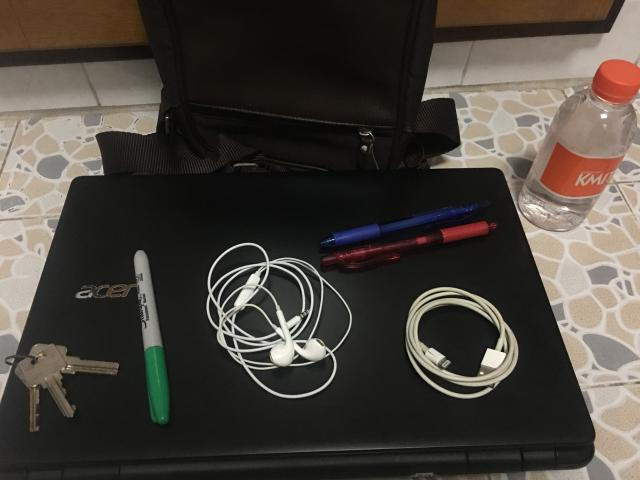Keys: (6, 344, 119, 432)
Pen: (321, 221, 498, 269), (320, 201, 489, 246), (134, 250, 170, 424)
bottle: (519, 60, 640, 230)
wire: (206, 243, 352, 399), (405, 288, 519, 399)
